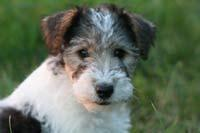wire-haired_fox_terrier: (1, 7, 156, 131)
